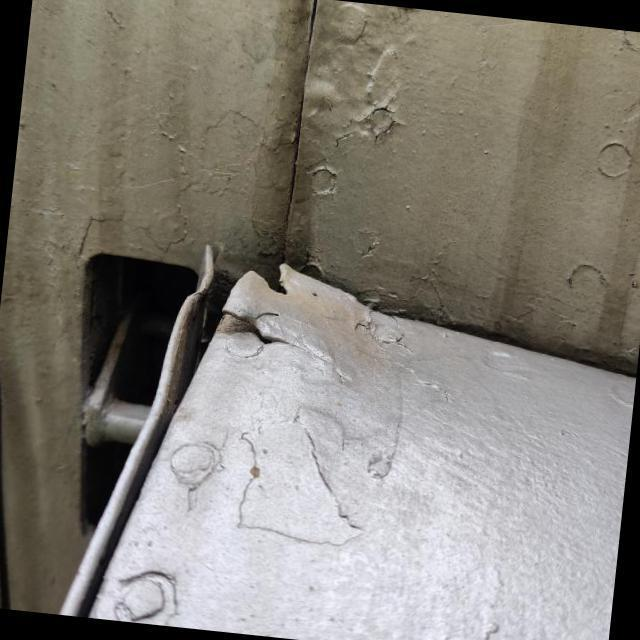Rupture: (206, 296, 304, 367)
